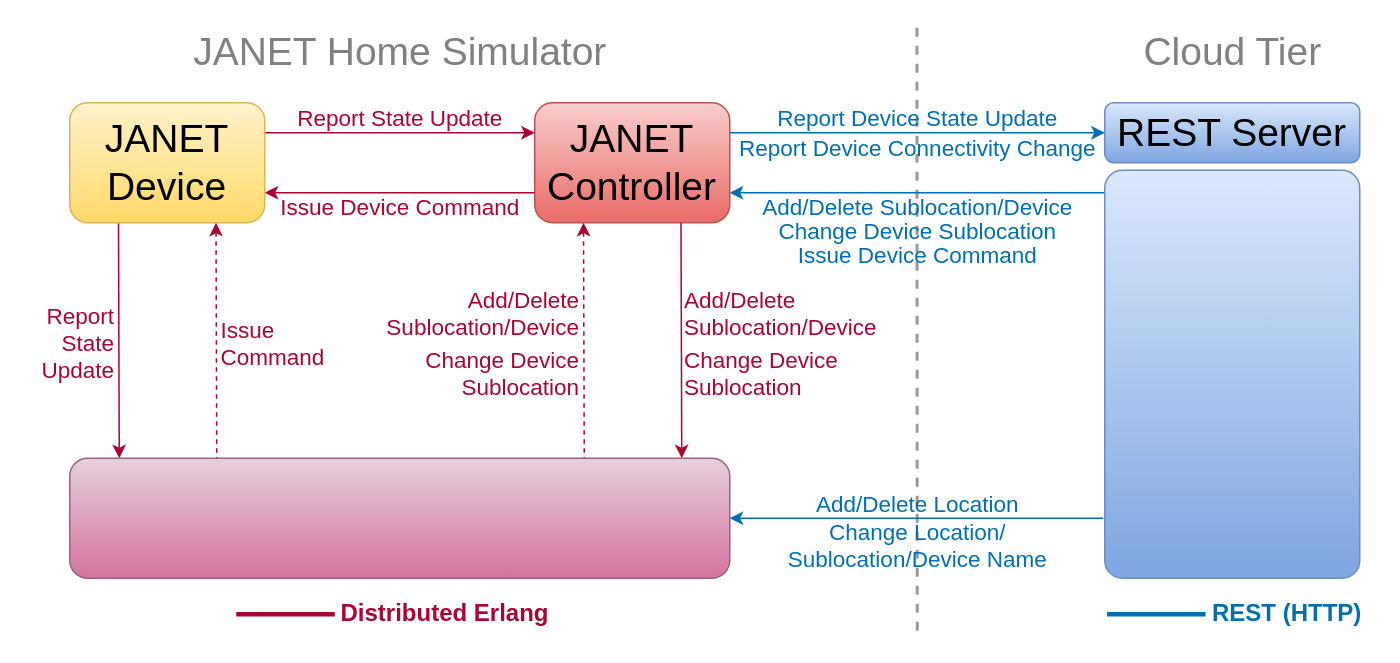
Some shapes in this 1400 by 663 pixel diagram are drawn without their labels. Each missing label, with the box of its shape:
JANET Simulator: (68, 457, 730, 578)
REST Client: (1103, 169, 1360, 578)
